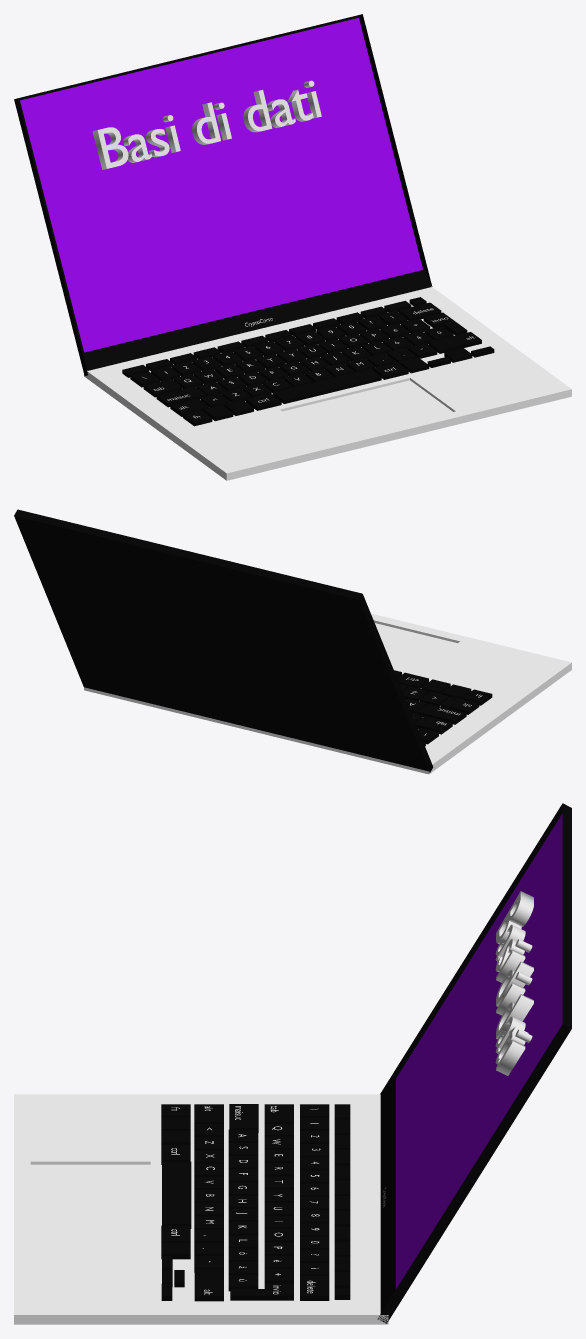
Rendered from basiDati.glb.
The picture shows the model from 3 angles, top to bottom: view 1: azimuth 30°, elevation 25°; view 2: azimuth 150°, elevation 25°; view 3: azimuth 270°, elevation 25°; orthographic projection. The views are drawn at different scales.
Visible parts, largest first — view 1: Cube.073, Cube, Cube.074, Text.001, Cube.001, Cube.072, Cube.123; view 2: Cube.001, Cube, Cube.065, Cube.064, Cube.066, Cube.071; view 3: Cube, Cube.073, Cube.001, Text.001, Cube.074, Cube.072, Cube.123, Cube.065, Cube.027.
Part boxes in pixels (box(x1,y1,x2,y2)): Cube.073: box(20, 18, 422, 352); Cube: box(84, 286, 571, 480); Cube.074: box(82, 269, 431, 370); Text.001: box(92, 80, 321, 169); Cube.001: box(14, 14, 432, 375); Cube.072: box(272, 368, 381, 403); Cube.123: box(428, 332, 481, 353); Cube.001: box(14, 509, 433, 772); Cube: box(84, 613, 571, 774); Cube.065: box(417, 703, 466, 724); Cube.064: box(440, 696, 479, 714); Cube.066: box(415, 716, 452, 734); Cube.071: box(397, 672, 428, 688); Cube: box(14, 1094, 388, 1324); Cube.073: box(396, 813, 562, 1288); Cube.001: box(377, 803, 571, 1323); Text.001: box(495, 891, 533, 1075); Cube.074: box(380, 1077, 396, 1313); Cube.072: box(162, 1161, 191, 1228); Cube.123: box(194, 1269, 223, 1301); Cube.065: box(229, 1104, 258, 1132); Cube.027: box(300, 1276, 329, 1300).
Size of the model in its own units: 6.79 by 4.31 by 7.25.
